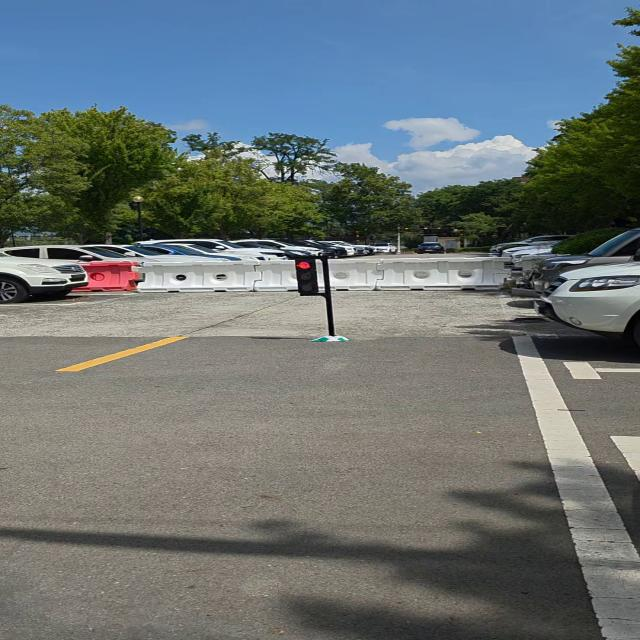red: (288, 253, 325, 294)
